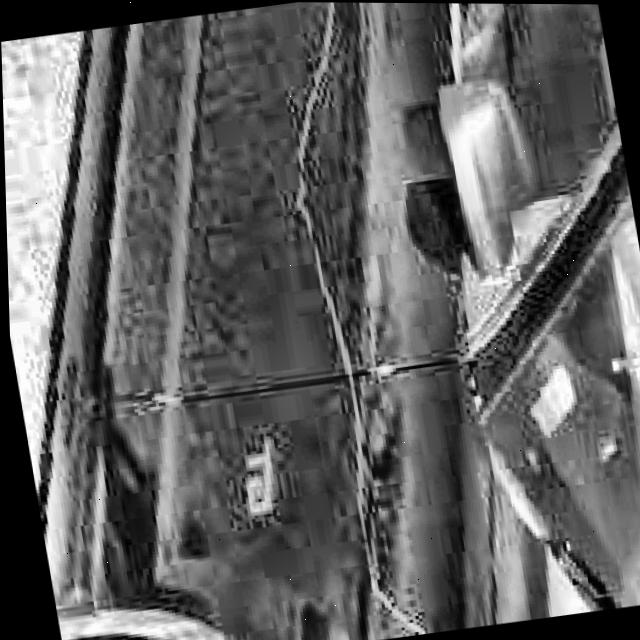door_scratch: (269, 84, 400, 600)
